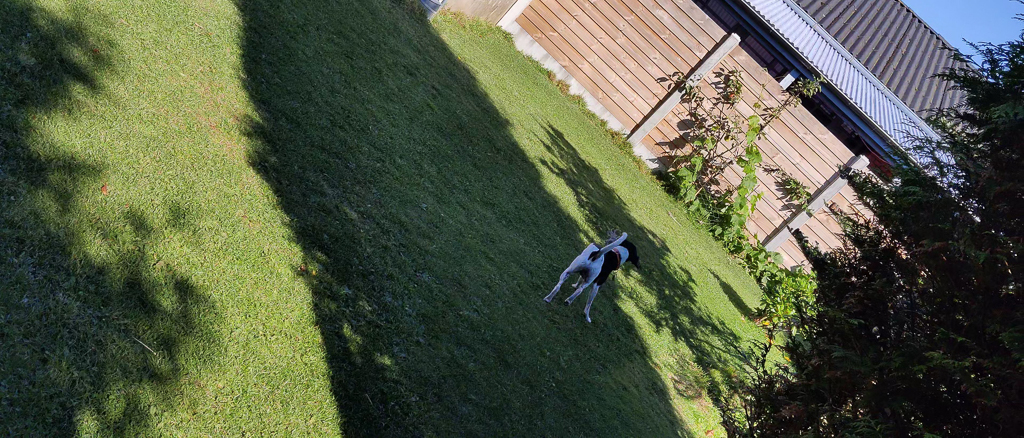Dog: (541, 226, 652, 328)
